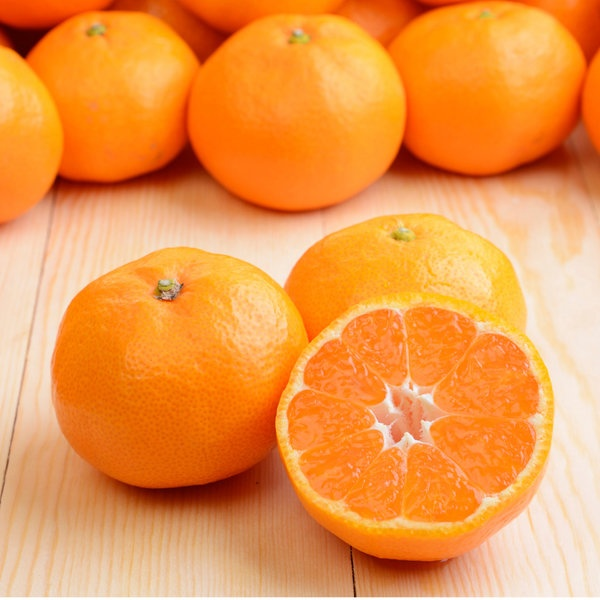mandarin: (269, 296, 555, 566), (51, 248, 309, 488), (183, 14, 409, 208), (387, 1, 583, 178), (280, 210, 530, 341), (28, 9, 205, 182), (1, 48, 67, 227), (583, 49, 600, 162)
